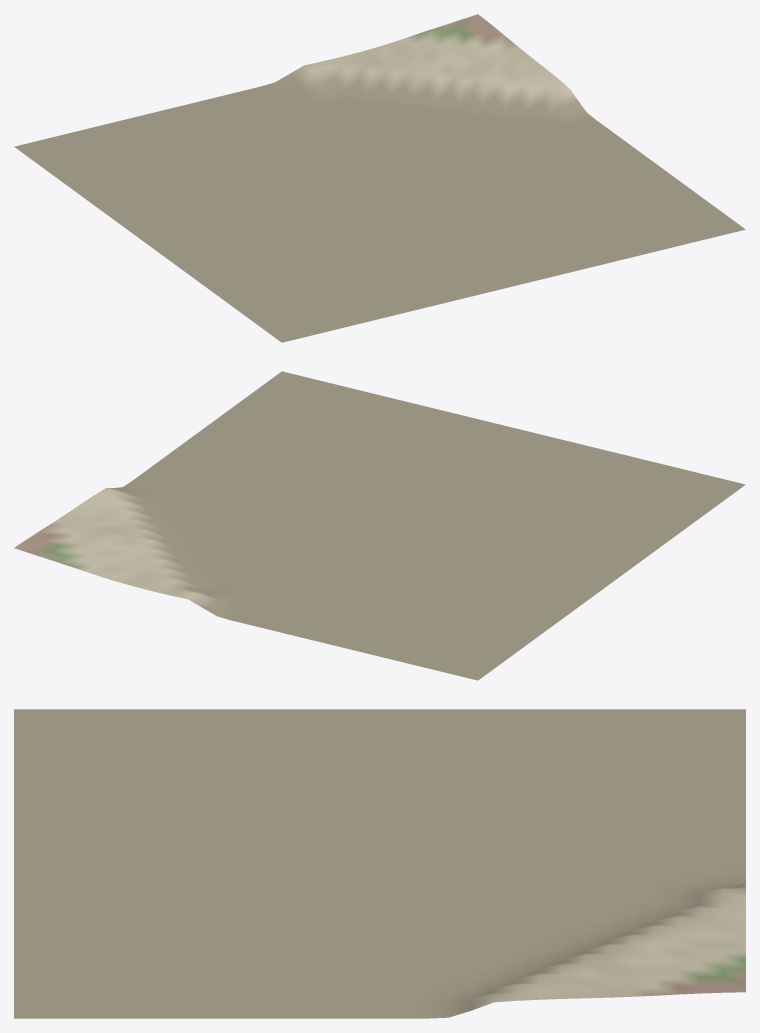
3 renders of one model, top to bottom at view 1: azimuth 30°, elevation 25°; view 2: azimuth 150°, elevation 25°; view 3: azimuth 270°, elevation 25°, orthographic. The views are drawn at different scales.
Parts seen in each view (by area): view 1: Terrain-col; view 2: Terrain-col; view 3: Terrain-col.
Part boxes in pixels (left/top/right/bottom): Terrain-col: left=14, top=14, right=745, bottom=342; Terrain-col: left=14, top=371, right=745, bottom=680; Terrain-col: left=14, top=709, right=745, bottom=1018.
Size of the model in its own units: 256 by 10.19 by 256.
